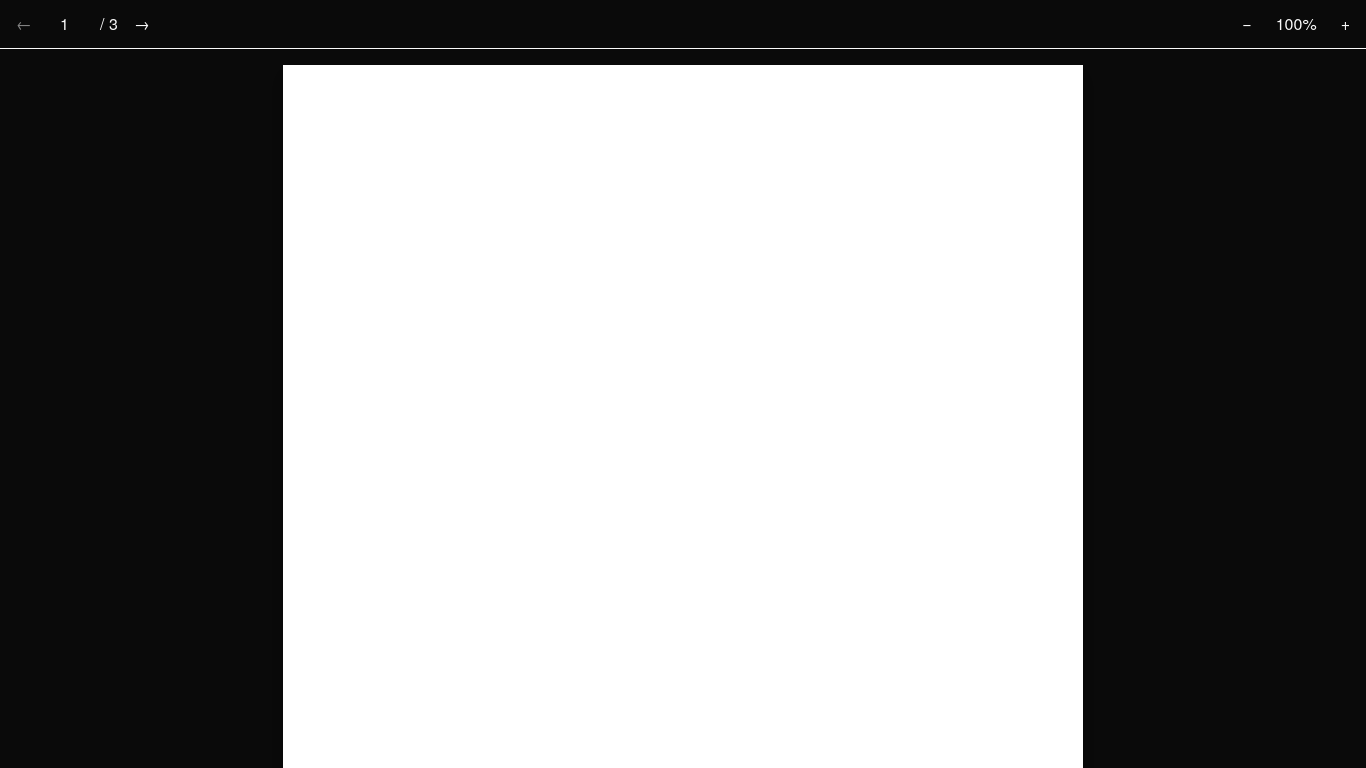
Test: PdfViewer › navigates to next page
The width and height of the screenshot is (1366, 768).
Click the button named "Next page" at (142, 24), box [126, 8, 158, 40]
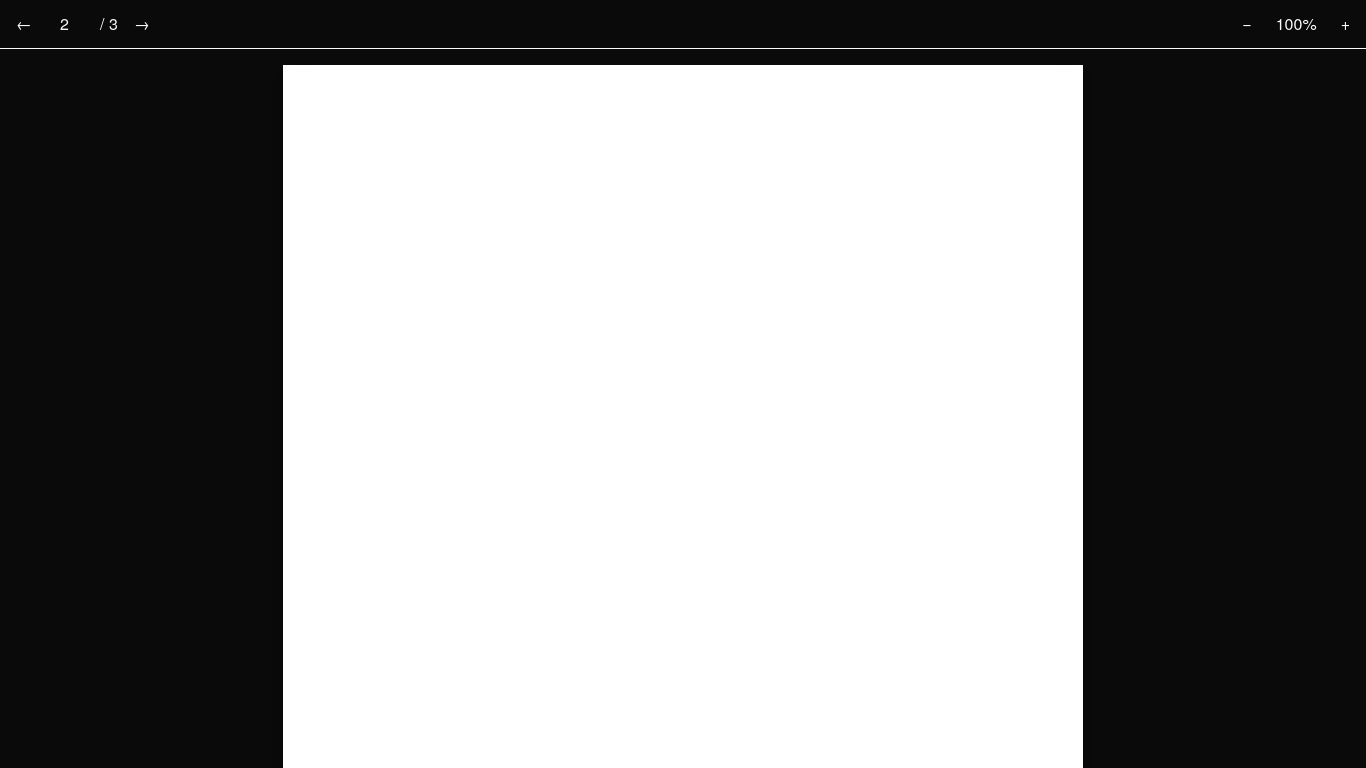
Now the number field named "Current page" holds "2", box [48, 10, 96, 38]
